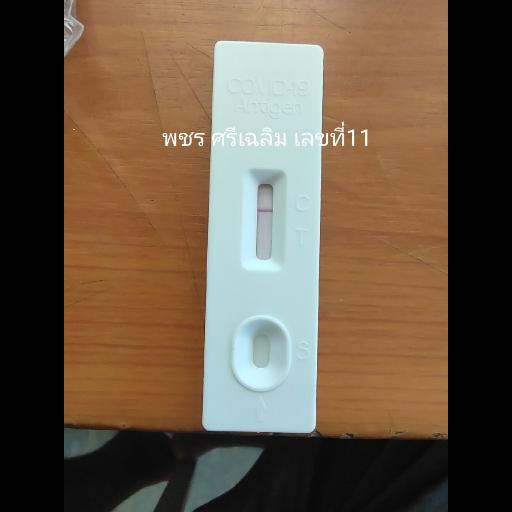Neg: (201, 40, 323, 437)
